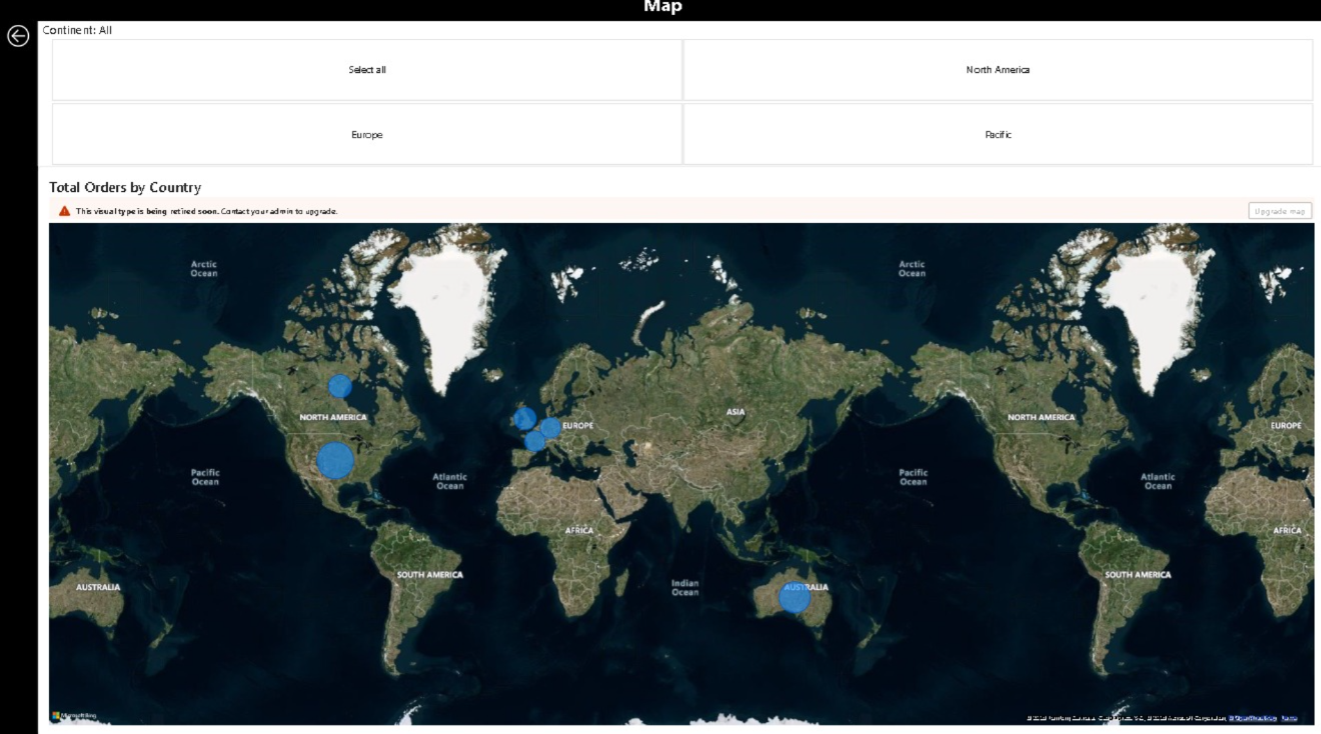

Layout of this report page (visuals, bound fields, positions):
{"tool":"powerbi","page":{"name":"Map","canvas":[1920,1080],"ordinal":3},"visuals":[{"type":"textbox","box":[0,0,1920,44],"z":0},{"type":"shape","box":[0,44,56,1036],"z":1000},{"type":"actionButton","box":[0,43.4,56.1,39.8],"z":1001},{"type":"slicer","fields":{"Values":["Territory Lookup.Continent"]},"box":[56.3,43.3,1863.3,209.9],"z":1003},{"type":"map","fields":{"Category":["Territory Lookup.Country"],"Size":["Measure Table.Total Orders"]},"box":[56,253,1863,827],"z":1004}]}

Visuals, with their boxes in screenshot pixels (x1, y1, x2, y2), scaled from the page's 1920x1080 canvas onto the 1321x734 screenshot:
textbox: select_region(0, 0, 1320, 30)
shape: select_region(0, 30, 39, 733)
actionButton: select_region(0, 29, 39, 57)
slicer - Territory Lookup.Continent: select_region(39, 29, 1320, 172)
map - Territory Lookup.Country x Measure Table.Total Orders: select_region(39, 172, 1320, 733)
